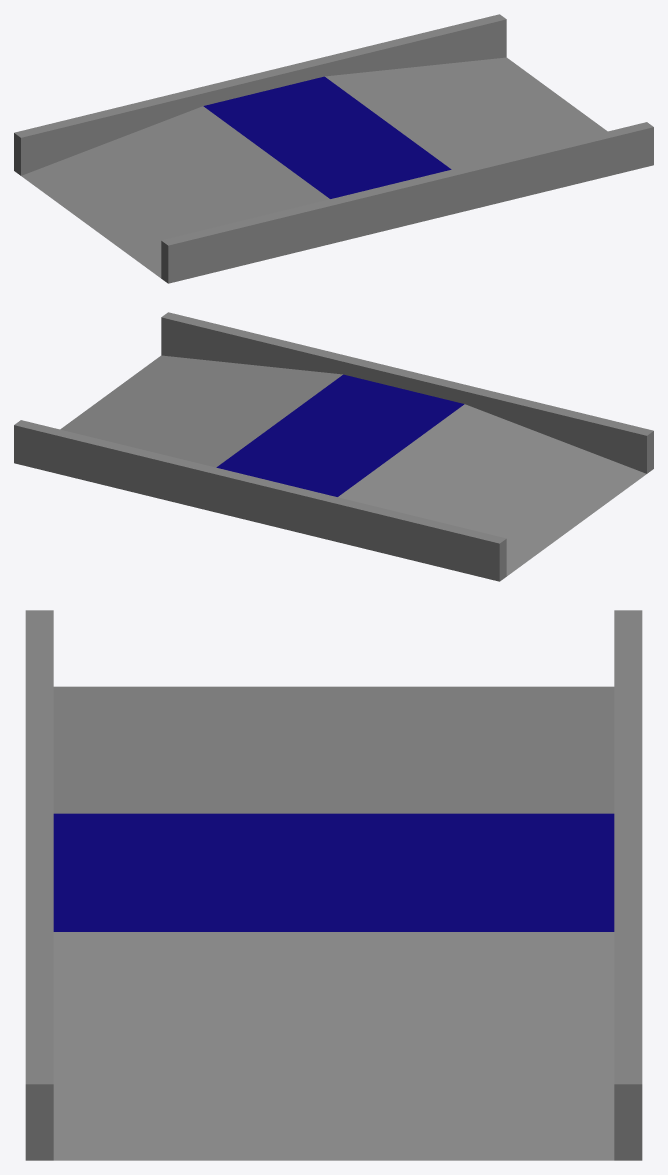
File: rampMesh2.glb
The picture shows the model from 3 angles, top to bottom: view 1: azimuth 30°, elevation 25°; view 2: azimuth 150°, elevation 25°; view 3: azimuth 270°, elevation 25°; orthographic projection. The views are drawn at different scales.
Visible parts, largest first — view 1: Cube; view 2: Cube; view 3: Cube.
Part boxes in pixels (x1,y1,x2,y2): Cube: (14, 14, 653, 283); Cube: (14, 312, 653, 581); Cube: (25, 610, 642, 1160).
Bounding box in the file's own units: 40 × 3 × 22.
